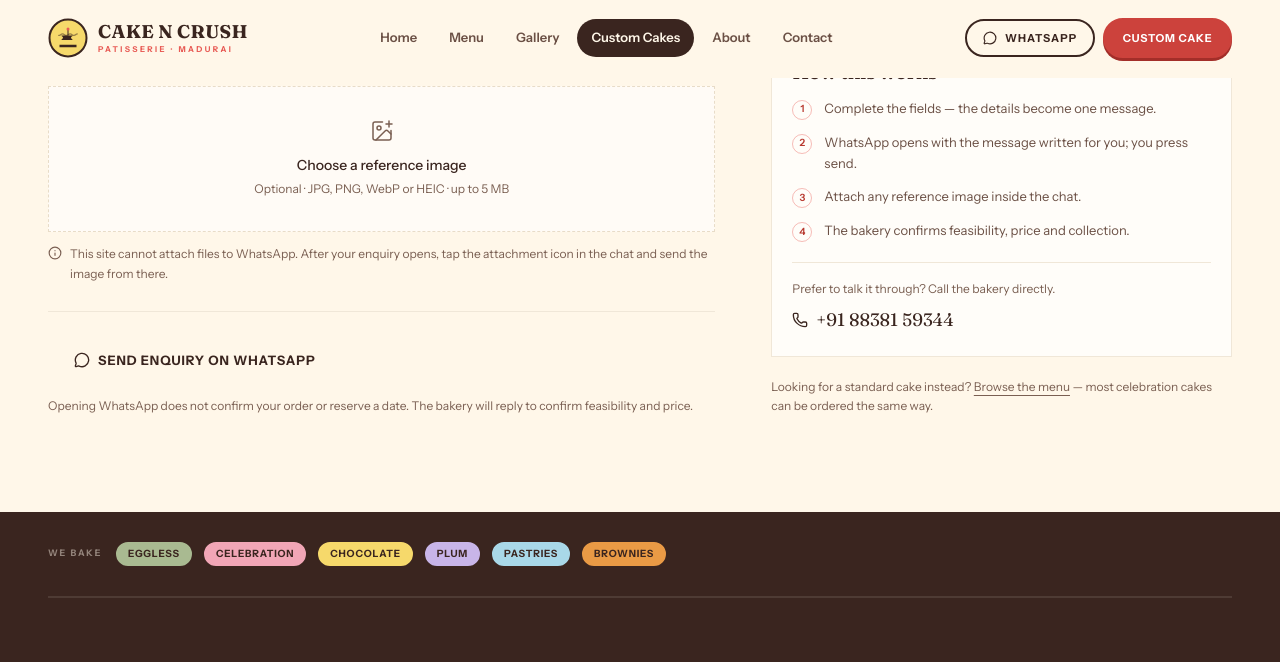
Test case: custom cakes page › blocks submission and lists field errors when empty
(page scrolled)
Click the button "Send enquiry on WhatsApp".
click(195, 360)  # box [48,336,342,384]
(page scrolled)
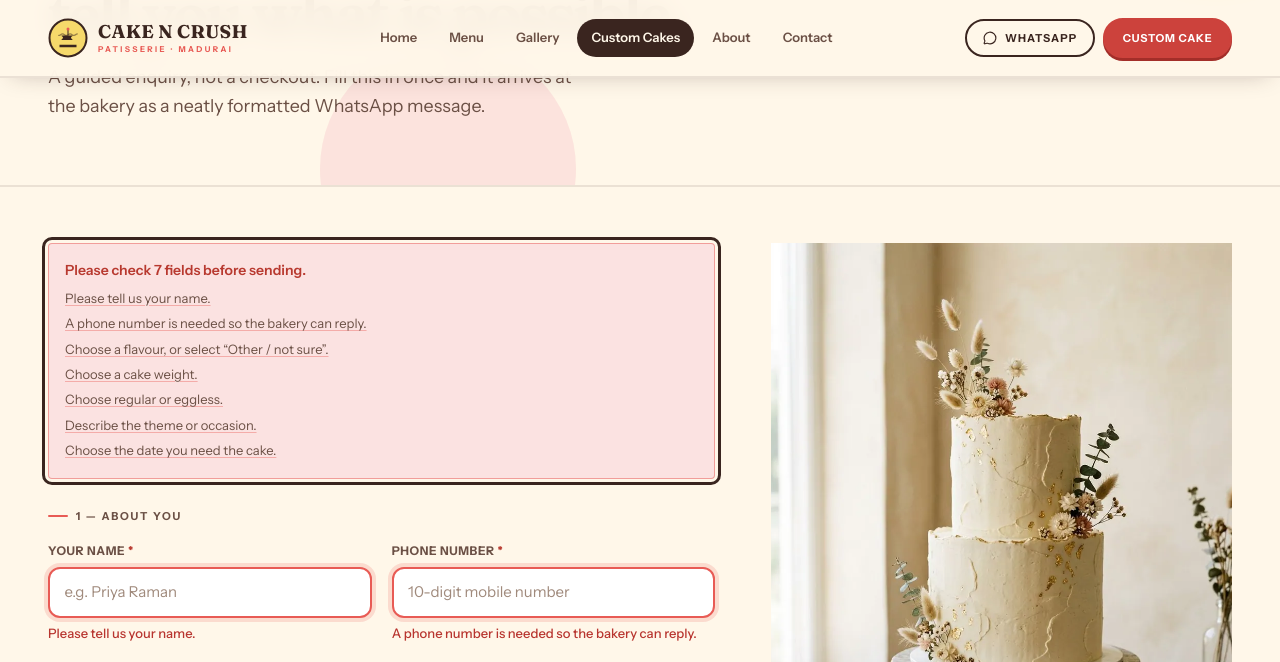
expect the text "Please check 7 fields before sending." is shown: met, box [65,261,306,279]
